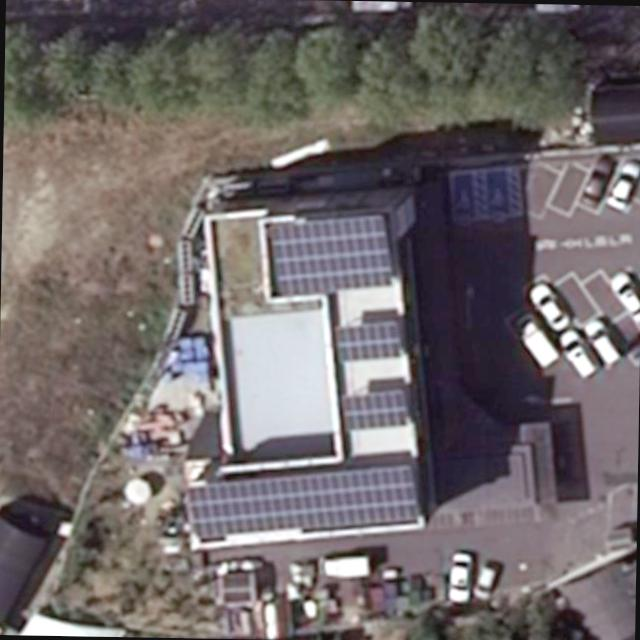solar: (182, 459, 424, 544), (266, 210, 394, 298), (331, 318, 403, 364), (337, 388, 412, 432)
